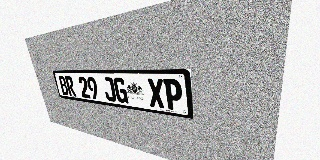2: (77, 76, 90, 98)
9: (86, 77, 100, 100)
B: (58, 76, 69, 96)
G: (113, 77, 129, 104)
J: (102, 77, 117, 102)
P: (163, 79, 183, 111)
R: (64, 76, 76, 96)
X: (147, 78, 165, 109)
